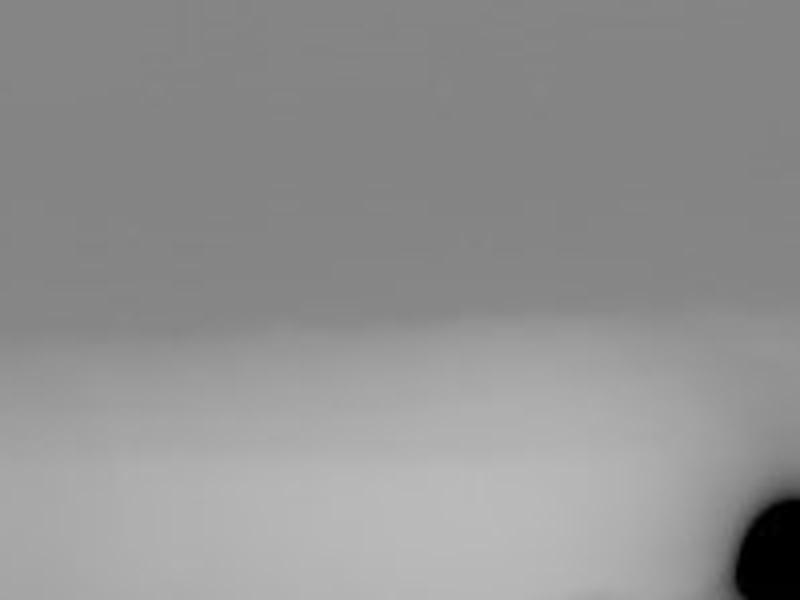defect: (734, 494, 797, 600)
